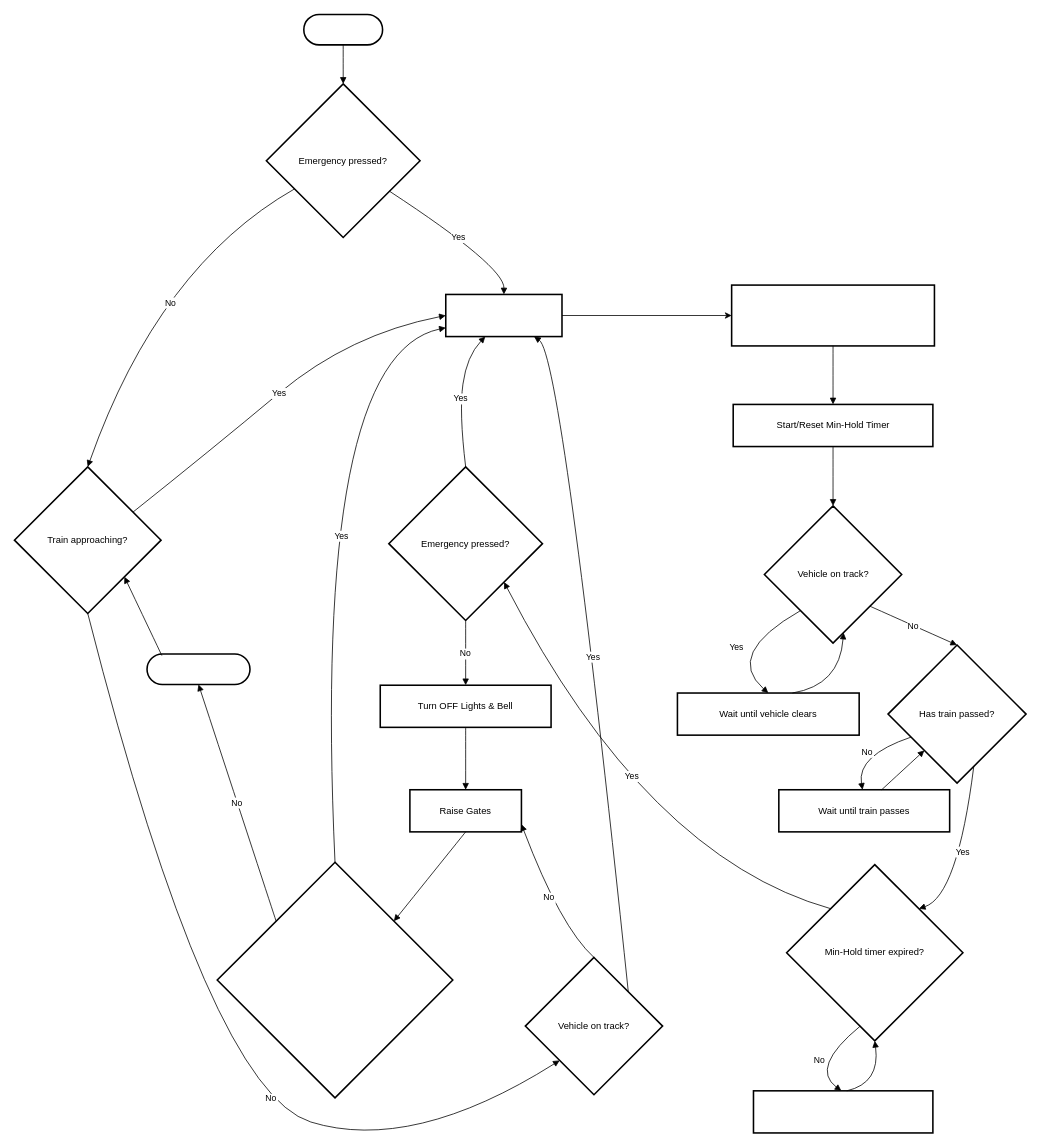
The diagram is 1040 pixels wide and 1147 high, and some of its shapes have lost their labels. Each missing label, with the centre of its shape:
Gates Up - Idle: (198,669)
Lower Gates: (503,315)
System ON: (343,29)
Train approaching OR Vehicle on track OR Emergency?: (334,979)
Turn ON Flashing Lights & Bell: (832,315)
Wait until timer expires: (842,1111)
